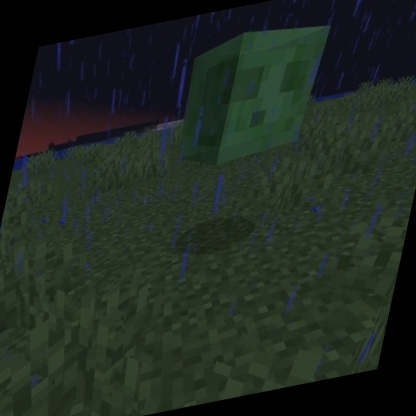slime: (164, 9, 341, 181)
